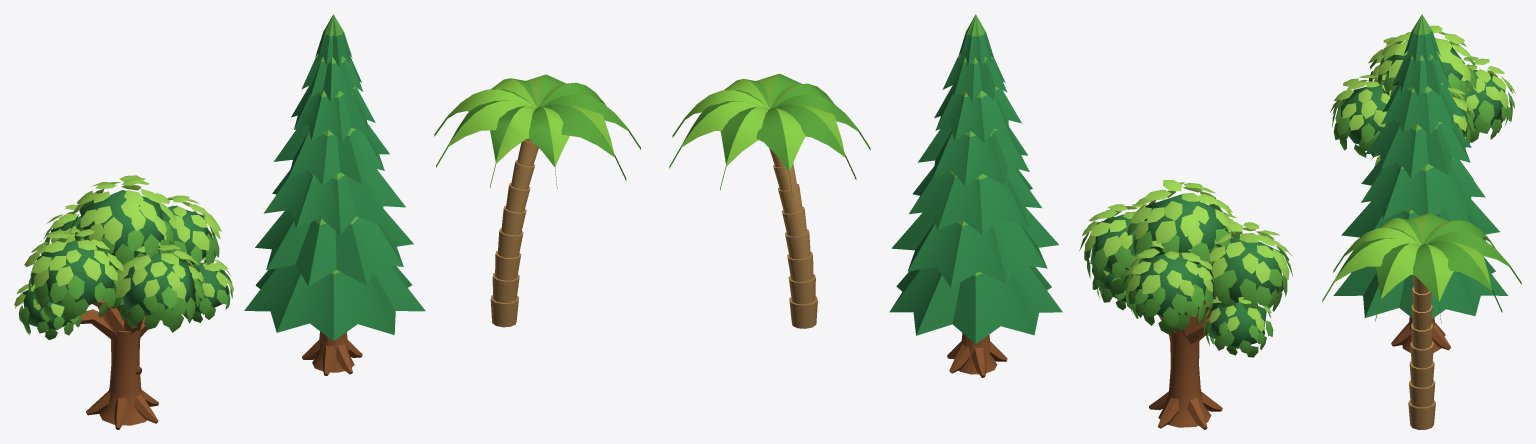
File: trees.glb
3 views of the same model, side by side, from view 1: azimuth 30°, elevation 25°; view 2: azimuth 150°, elevation 25°; view 3: azimuth 270°, elevation 25° (orthographic). The views are drawn at different scales.
Parts seen in each view (by area): view 1: tree_pine, tree_oak, tree_palm; view 2: tree_pine, tree_oak, tree_palm; view 3: tree_pine, tree_palm, tree_oak.
Part boxes in pixels (x1,y1,x2,y2): tree_pine: [244, 14, 425, 375]; tree_oak: [14, 175, 233, 429]; tree_palm: [434, 74, 640, 327]; tree_pine: [889, 14, 1062, 377]; tree_oak: [1079, 180, 1292, 429]; tree_palm: [669, 74, 870, 328]; tree_pine: [1333, 14, 1507, 352]; tree_palm: [1322, 213, 1521, 429]; tree_oak: [1330, 25, 1515, 167].
Size of the model in its own units: 16.06 by 9.01 by 4.9.
